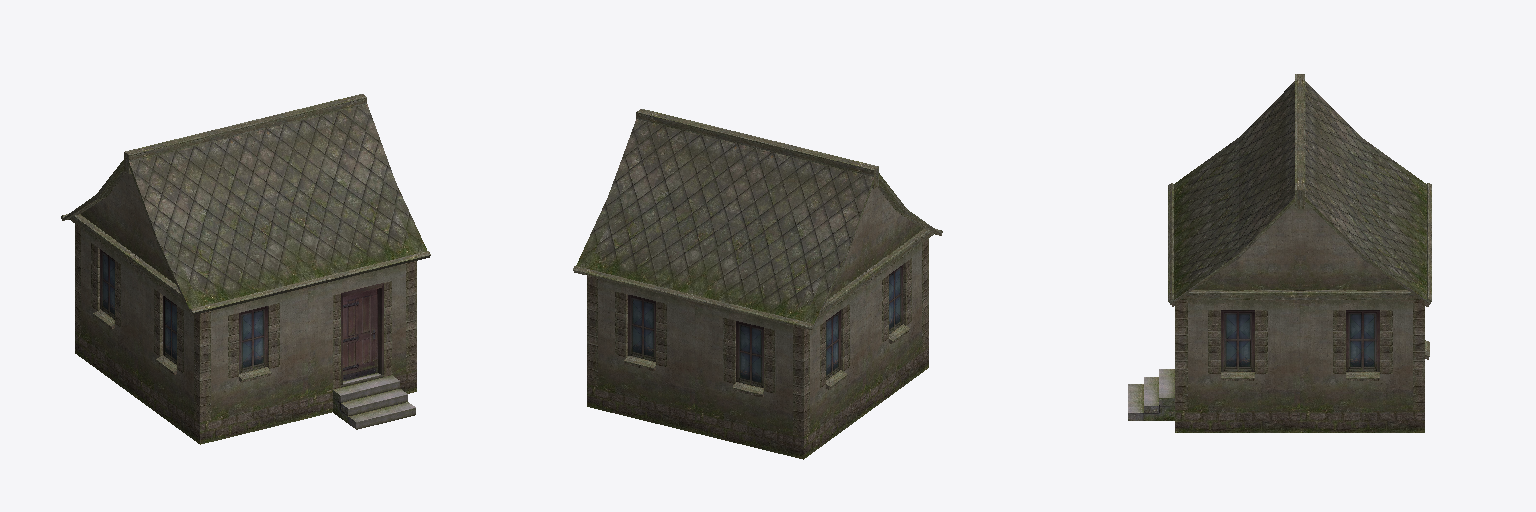
3 views of the same model, side by side, from view 1: azimuth 30°, elevation 25°; view 2: azimuth 150°, elevation 25°; view 3: azimuth 270°, elevation 25° (orthographic).
Visible parts, largest first — view 1: single_room_building; view 2: single_room_building; view 3: single_room_building.
Part boxes in pixels (bbox=[...]): single_room_building: bbox=[61, 94, 430, 444]; single_room_building: bbox=[573, 109, 942, 459]; single_room_building: bbox=[1128, 74, 1431, 432].
Size of the model in its own units: 220 by 219 by 244.
1 materials, 1 textured.